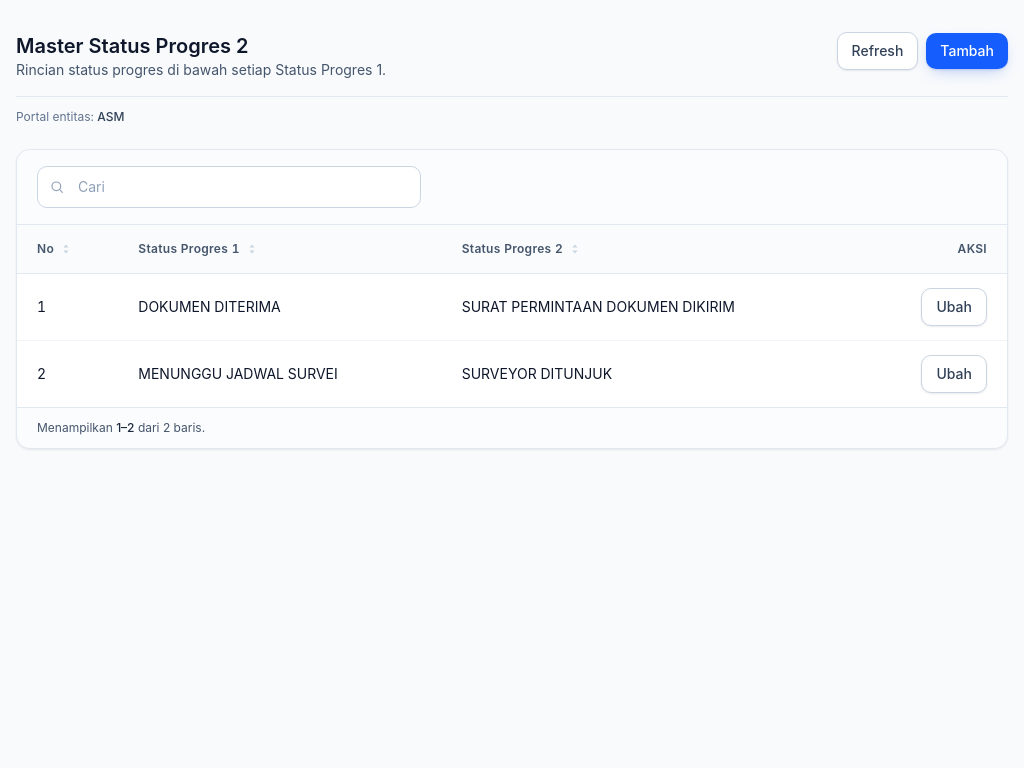
Test: penambahan status progres 2 › menyorot dropdown induk saat server menolak induknya
This screenshot has width=1024, height=768.
Check: the table is shown, box [17,225,1007,407]
Step 1. Click the button "Tambah" → click(967, 51), box [926,33,1008,69]
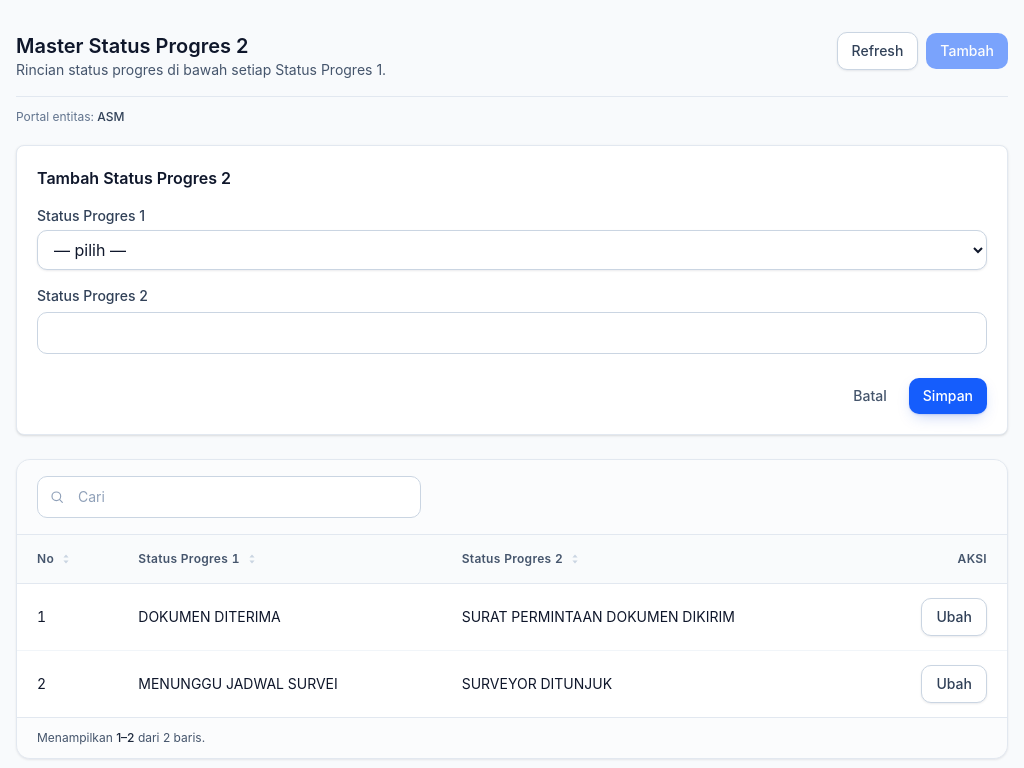
Step 2. Select "01 — DOKUMEN DITERIMA" in the dropdown labelled "Status Progres 1" → (512, 250), box [37,230,987,270]
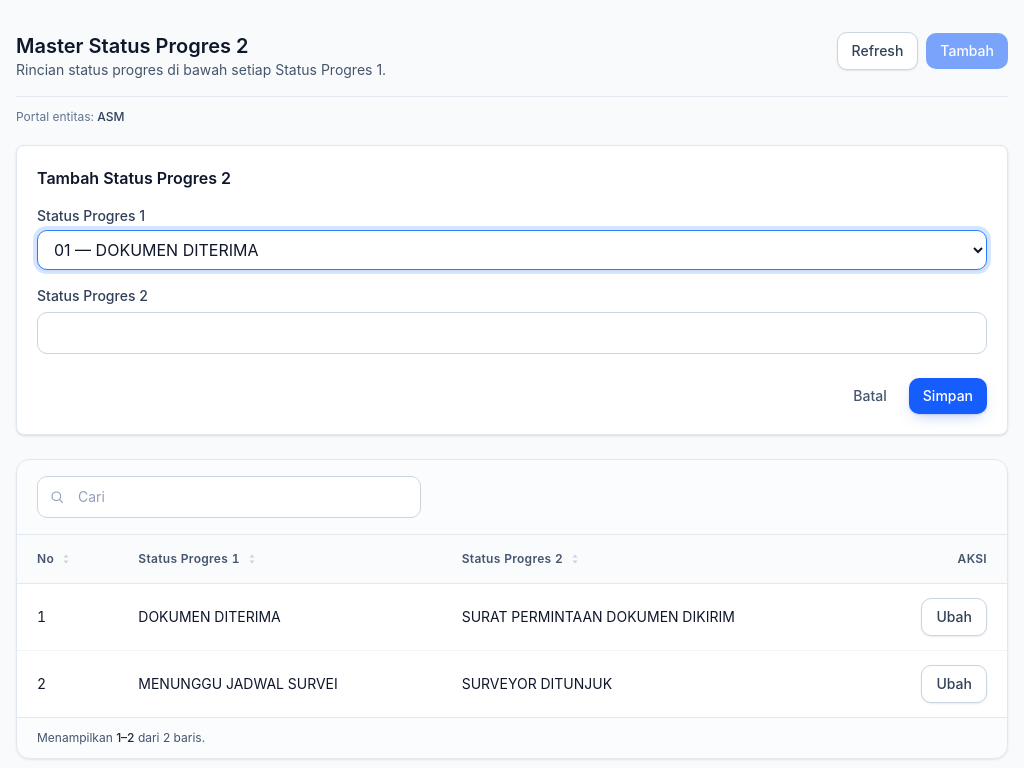
Step 3. Type "APA SAJA" into the field labelled "Status Progres 2" → (512, 333), box [37,312,987,354]
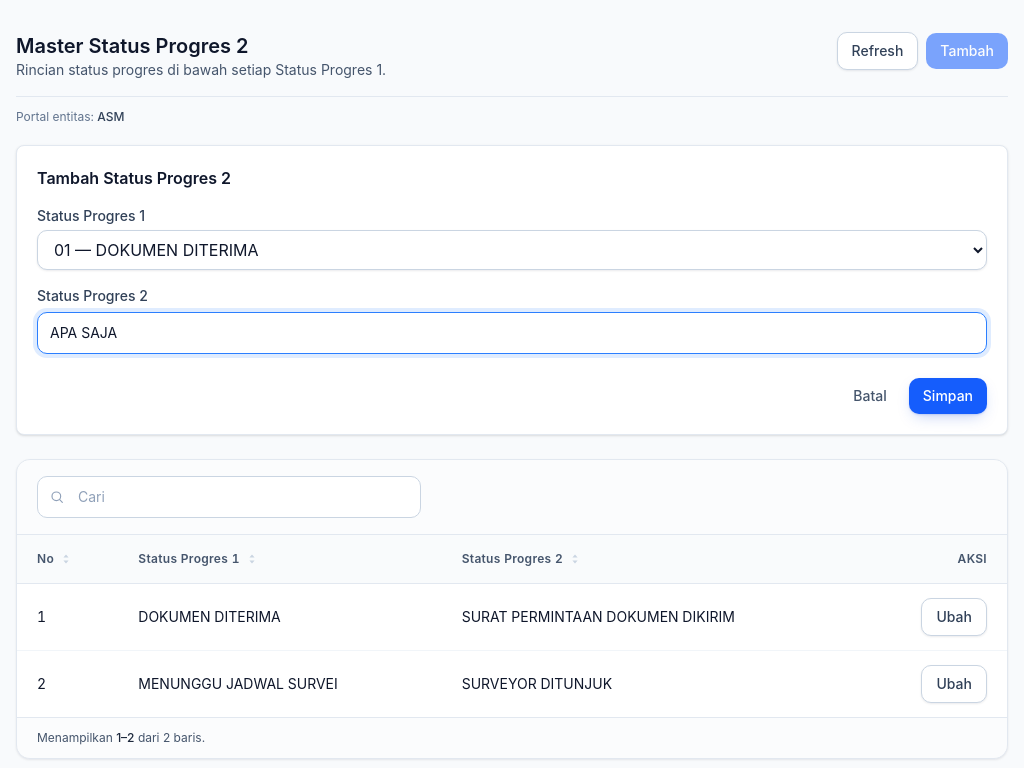
Step 4. Click the button "Simpan" → click(948, 396), box [909,378,987,414]
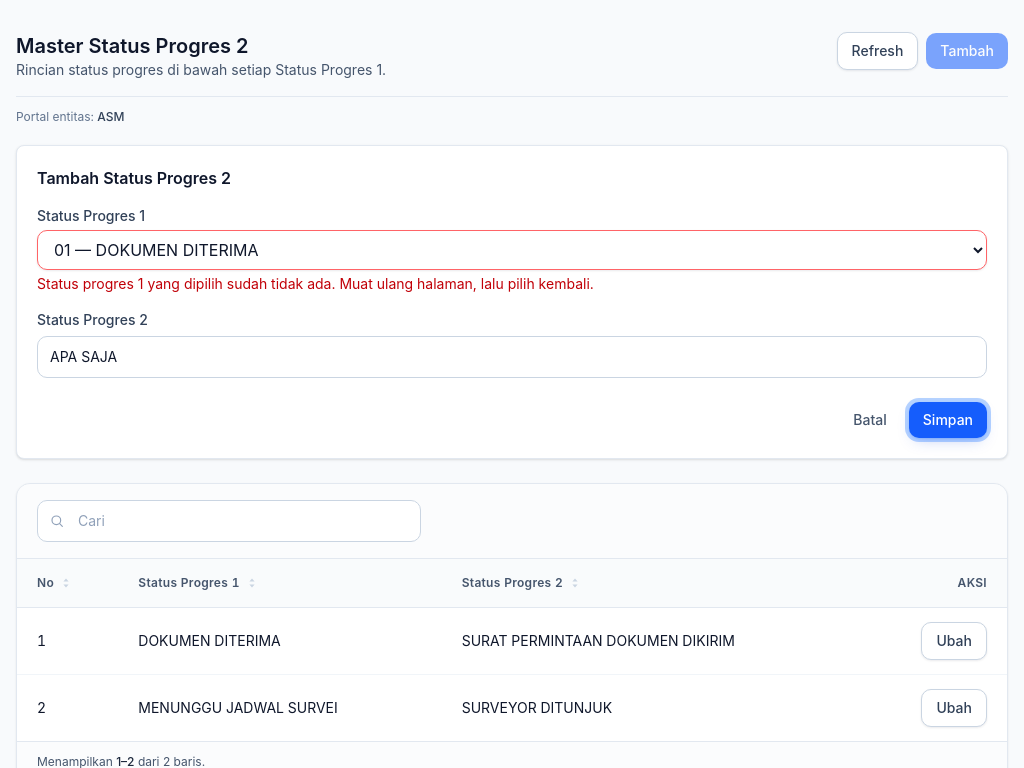
Check: the text "Status progres 1 yang dipilih sudah tidak ada. Muat ulang halaman, lalu pilih kembali." is shown, box [37,275,594,292]
